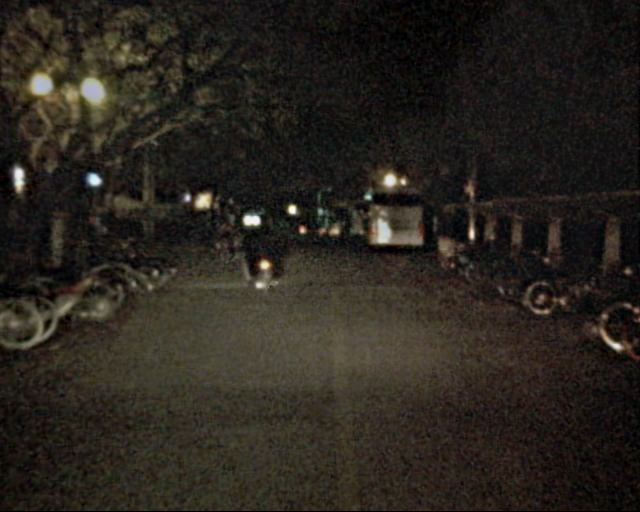person: (247, 215, 275, 284), (212, 213, 234, 265), (334, 217, 353, 244)
